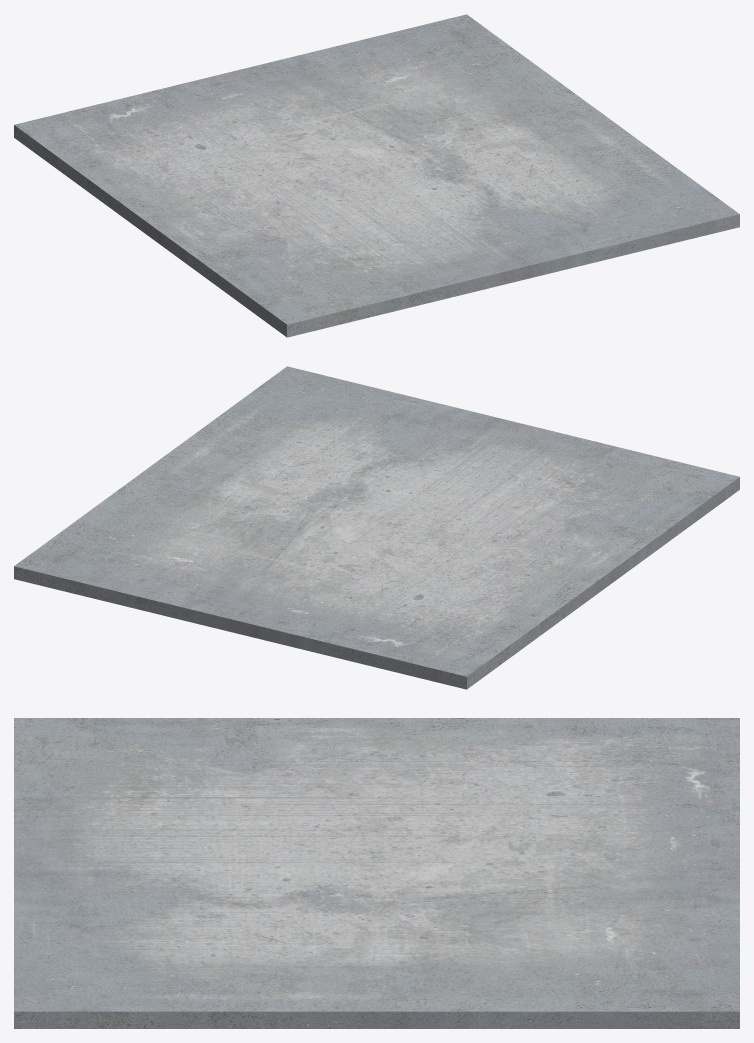
File: Ceiling Tile_Large.FBX
3 renders of one model, top to bottom at view 1: azimuth 30°, elevation 25°; view 2: azimuth 150°, elevation 25°; view 3: azimuth 270°, elevation 25°, orthographic. The views are drawn at different scales.
Parts seen in each view (by area): view 1: Ceiling Tile_Large; view 2: Ceiling Tile_Large; view 3: Ceiling Tile_Large.
Boxes of the visible parts, left/top/right/bottom form: Ceiling Tile_Large: left=14, top=14, right=739, bottom=337; Ceiling Tile_Large: left=14, top=366, right=739, bottom=689; Ceiling Tile_Large: left=14, top=718, right=739, bottom=1028.
Size of the model in its own units: 0.6621 by 0.018 by 0.6918.
